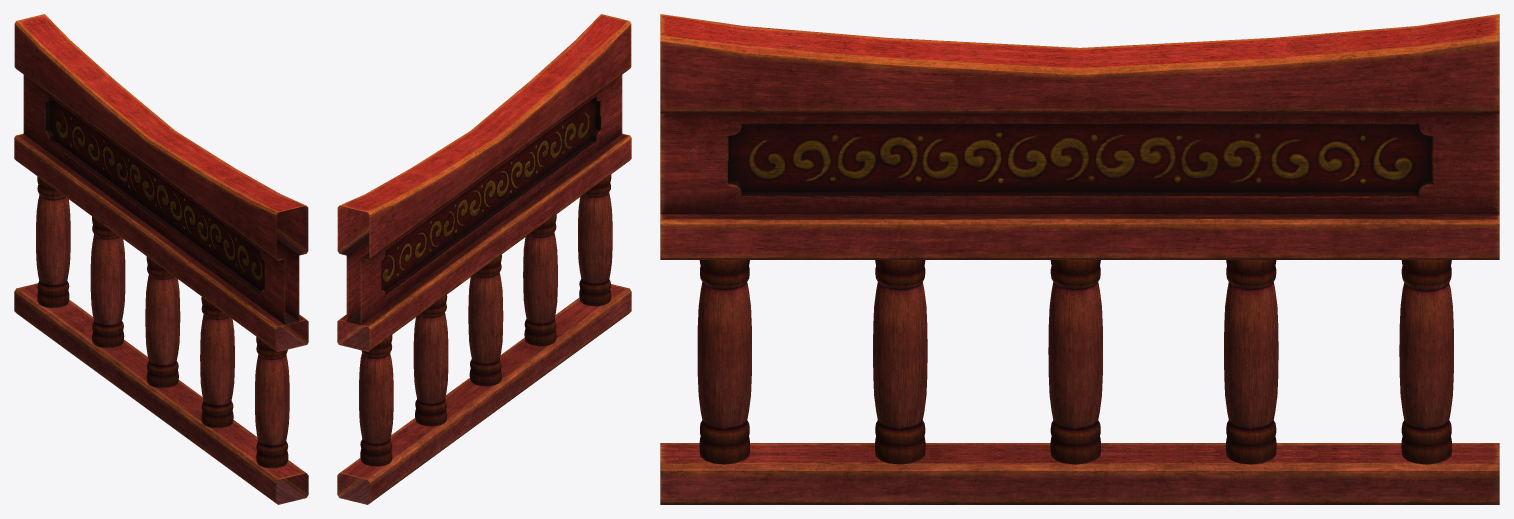
The model's file is SM_WoodFence2.glb.
3 views of the same model, side by side, from view 1: azimuth 30°, elevation 25°; view 2: azimuth 150°, elevation 25°; view 3: azimuth 270°, elevation 25° (orthographic). The views are drawn at different scales.
Parts seen in each view (by area): view 1: SM_WoodFence2_LOD0; view 2: SM_WoodFence2_LOD0; view 3: SM_WoodFence2_LOD0.
Boxes of the visible parts, x1=… form: SM_WoodFence2_LOD0: x1=14, y1=14, x2=308, y2=504; SM_WoodFence2_LOD0: x1=337, y1=14, x2=631, y2=504; SM_WoodFence2_LOD0: x1=660, y1=14, x2=1499, y2=504.
Bounding box in the file's own units: 0.1048 × 0.9032 × 1.47.
Materials: 1 (1 with a texture image).
